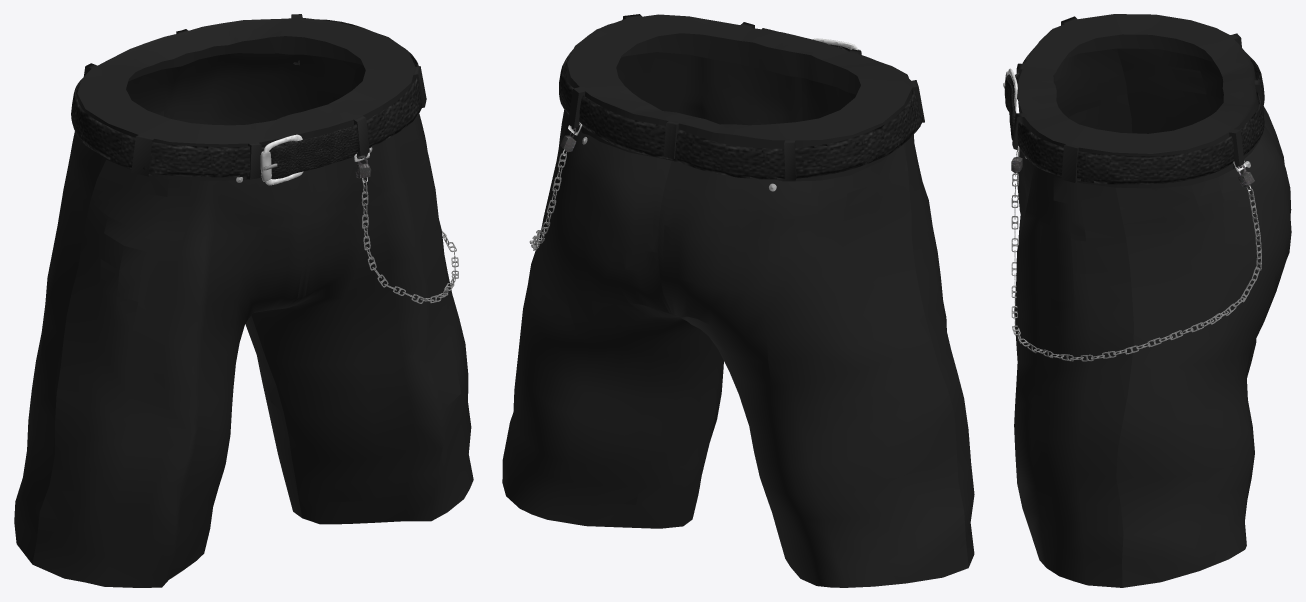
The model's file is elvs-male-trouser-short-2.glb.
3 renders of one model, left to right at view 1: azimuth 30°, elevation 25°; view 2: azimuth 150°, elevation 25°; view 3: azimuth 270°, elevation 25°, orthographic. The views are drawn at different scales.
Parts seen in each view (by area): view 1: male trouser short 2; view 2: male trouser short 2; view 3: male trouser short 2.
Boxes of the visible parts, <box> form: male trouser short 2: <box>14,14,473,587</box>; male trouser short 2: <box>502,14,974,587</box>; male trouser short 2: <box>1003,14,1291,587</box>.
Bounding box in the file's own units: 44.36 × 44.04 × 26.95.
Materials: 1 (1 with a texture image).
